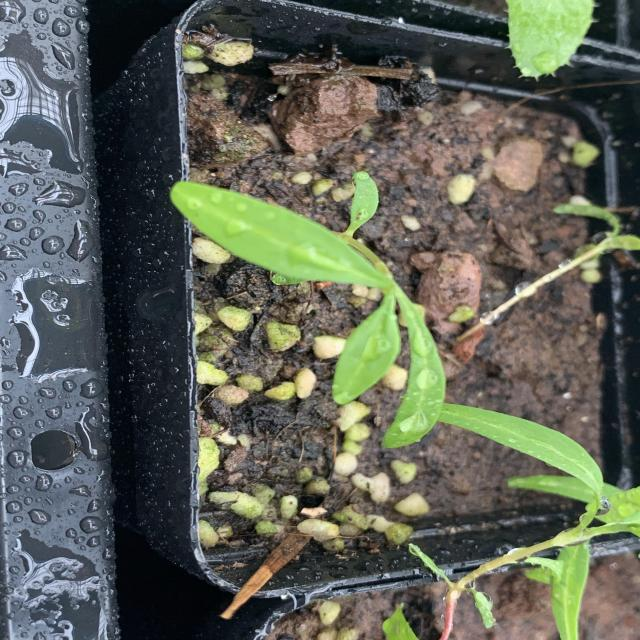white_smart_weed: (162, 163, 440, 478)
